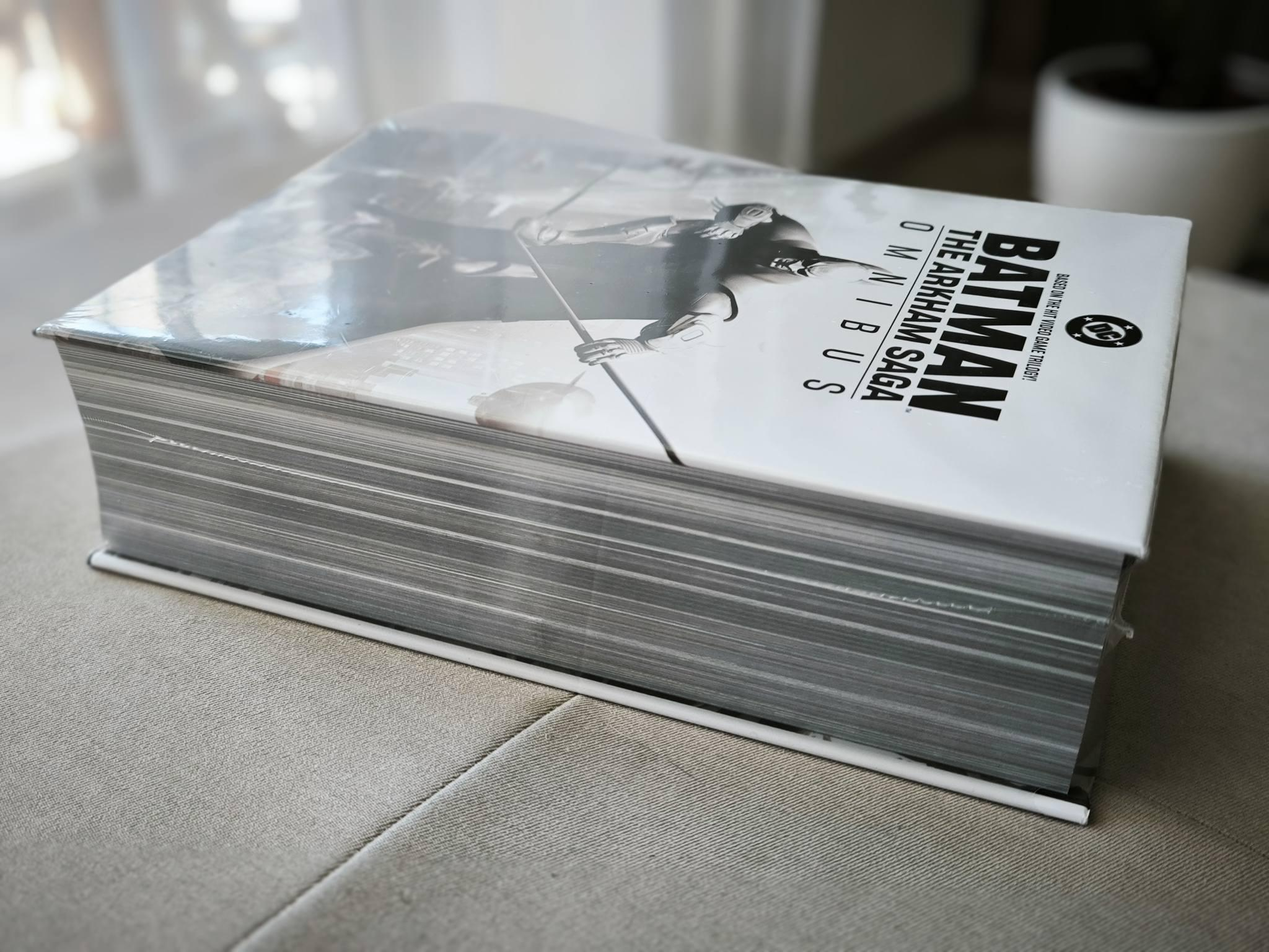comic: (38, 7, 1208, 557)
